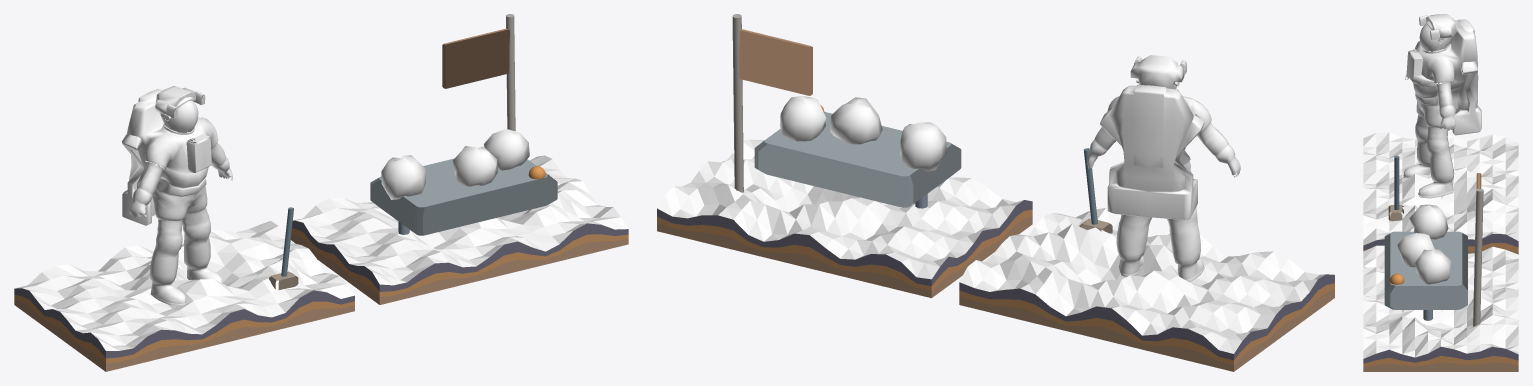
Rendered from apolo-muestras.obj.
3 views of the same model, side by side, from view 1: azimuth 30°, elevation 25°; view 2: azimuth 150°, elevation 25°; view 3: azimuth 270°, elevation 25° (orthographic). The views are drawn at different scales.
Visible parts, largest first — view 1: apolo-muestras; view 2: apolo-muestras; view 3: apolo-muestras.
Part boxes in pixels (x1,y1,x2,y2): apolo-muestras: [14, 14, 628, 371]; apolo-muestras: [657, 14, 1334, 371]; apolo-muestras: [1363, 14, 1518, 371].
Bounding box in the file's own units: 1.68 × 0.674 × 0.51.
